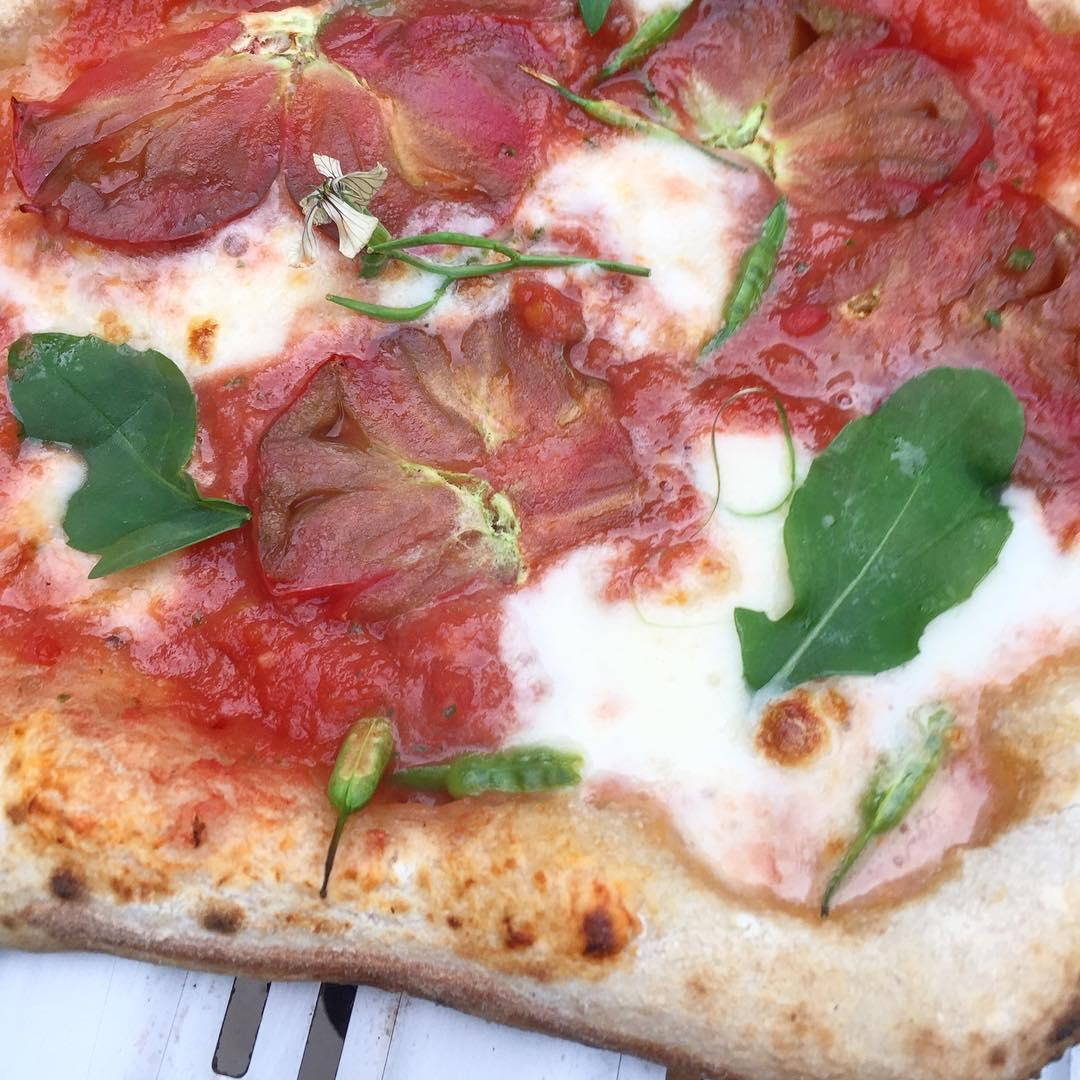Basil: (748, 354, 989, 705), (14, 328, 216, 572), (324, 734, 547, 803), (371, 228, 567, 301)
Pizza: (1, 0, 1080, 1080)
Tomatoes: (34, 1, 541, 201), (274, 328, 623, 612), (674, 8, 958, 205), (788, 218, 1074, 385)
